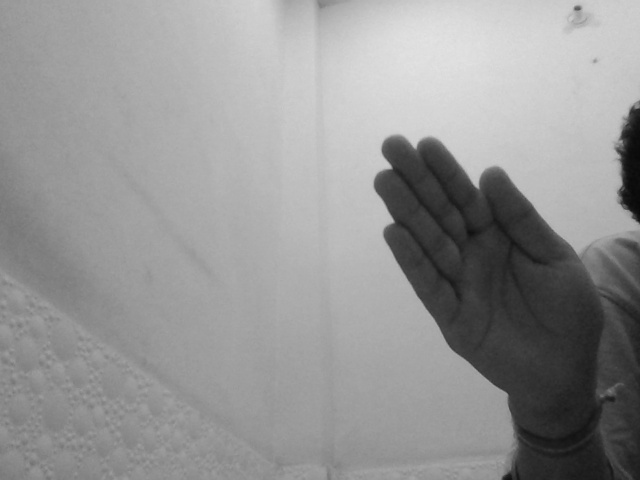Hello: (370, 130, 608, 399)
